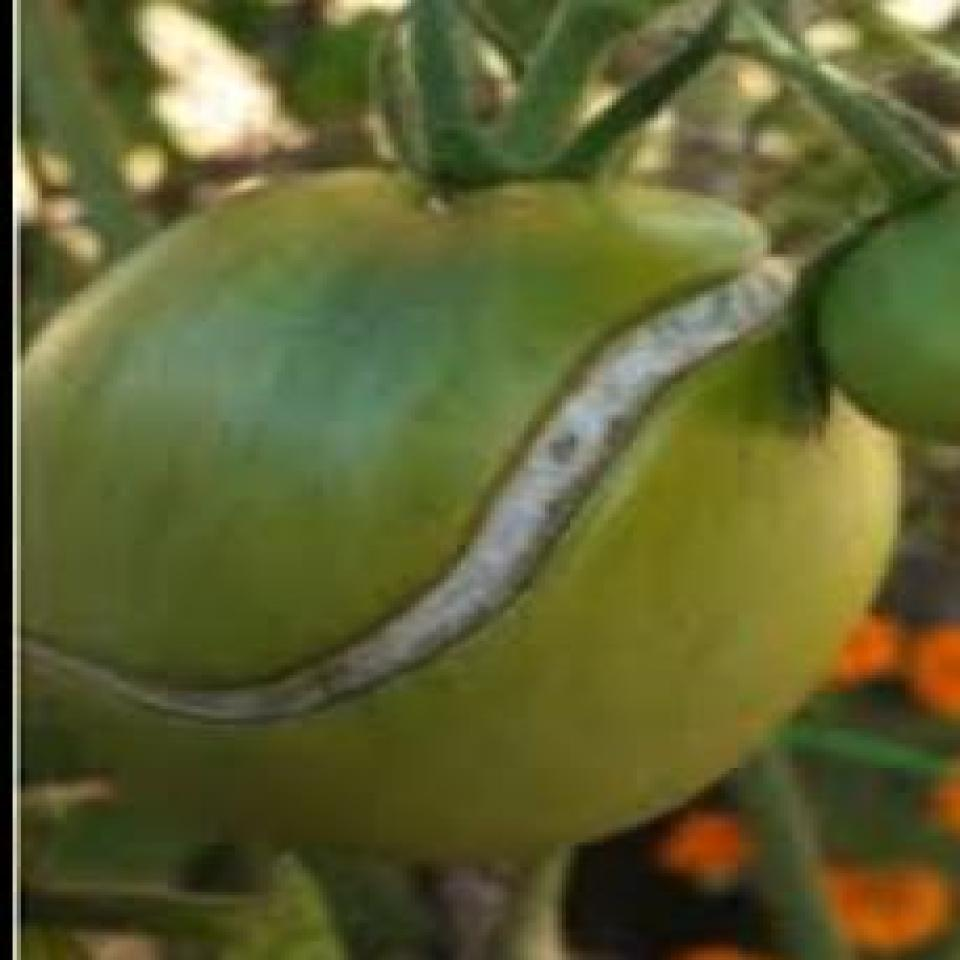Cracking: (11, 239, 801, 745)
